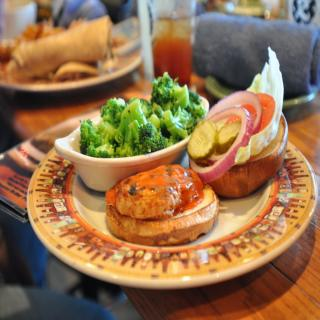Broccoli: (80, 76, 209, 159)
Salad: (71, 70, 203, 160)
